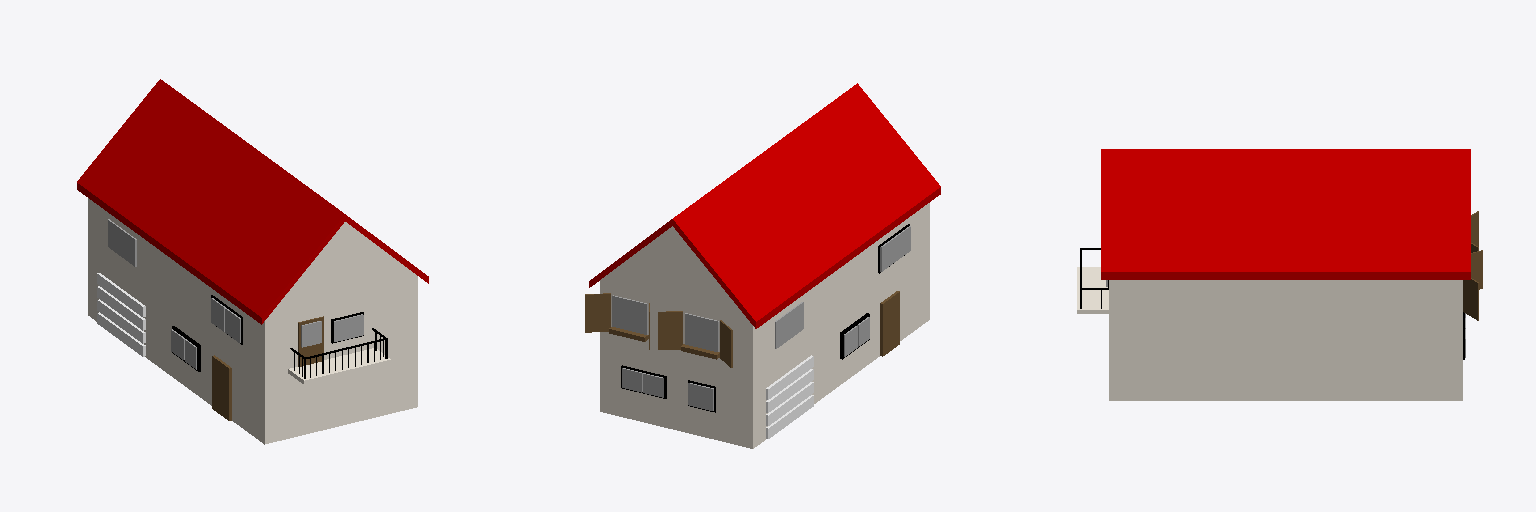
File: detached_house_01b.obj
The picture shows the model from 3 angles: view 1: azimuth 30°, elevation 25°; view 2: azimuth 150°, elevation 25°; view 3: azimuth 270°, elevation 25°; orthographic projection.
Parts seen in each view (by area): view 1: Box45; view 2: Box45, Box70, Box69; view 3: Box45, Box70.
Part boxes in pixels (bbox=[...]): Box45: bbox=[77, 79, 428, 444]; Box45: bbox=[589, 83, 940, 448]; Box70: bbox=[585, 293, 610, 332]; Box69: bbox=[658, 311, 682, 349]; Box45: bbox=[1077, 149, 1470, 400]; Box70: bbox=[1463, 278, 1478, 320].
Size of the model in its own units: 12.02 by 14.72 by 25.23.